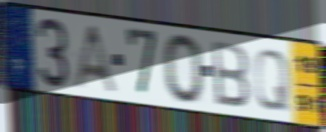3: (33, 14, 70, 90)
7: (124, 25, 158, 100)
A: (70, 22, 119, 95)
B: (210, 38, 252, 110)
O: (161, 32, 207, 106)
Q: (252, 47, 291, 114)
